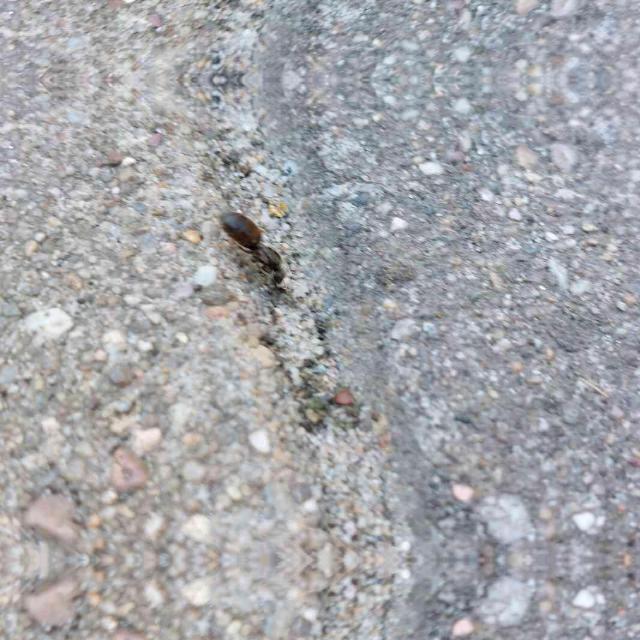Lasius: (222, 205, 292, 282)
